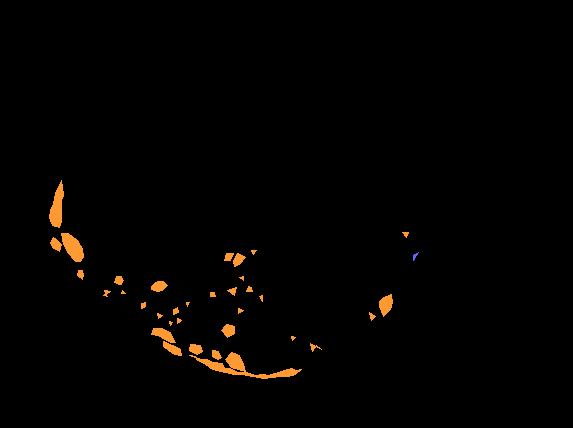Paint chip: (189, 355, 301, 378), (49, 180, 63, 227), (61, 233, 83, 261), (225, 352, 245, 371), (151, 328, 175, 342), (379, 294, 392, 316), (163, 341, 181, 355), (221, 324, 234, 337), (151, 281, 167, 291), (233, 253, 245, 266), (50, 237, 61, 251), (189, 344, 202, 354), (310, 343, 321, 351), (212, 350, 221, 359), (227, 287, 236, 295), (114, 276, 123, 284), (224, 253, 233, 260), (77, 270, 83, 279), (369, 312, 375, 320), (103, 290, 110, 296), (173, 307, 178, 314), (246, 286, 252, 291), (402, 232, 408, 237), (157, 313, 162, 318), (238, 308, 243, 313), (141, 302, 145, 308), (251, 250, 256, 254), (210, 292, 215, 296), (177, 318, 181, 323), (259, 295, 262, 301), (239, 276, 243, 280), (291, 336, 295, 340), (186, 302, 189, 306), (169, 321, 172, 325), (121, 290, 125, 293)
Scratch: (413, 252, 418, 260)
